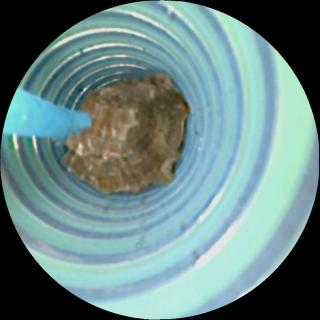fiber: (6, 91, 90, 137)
stone: (64, 76, 187, 194)
